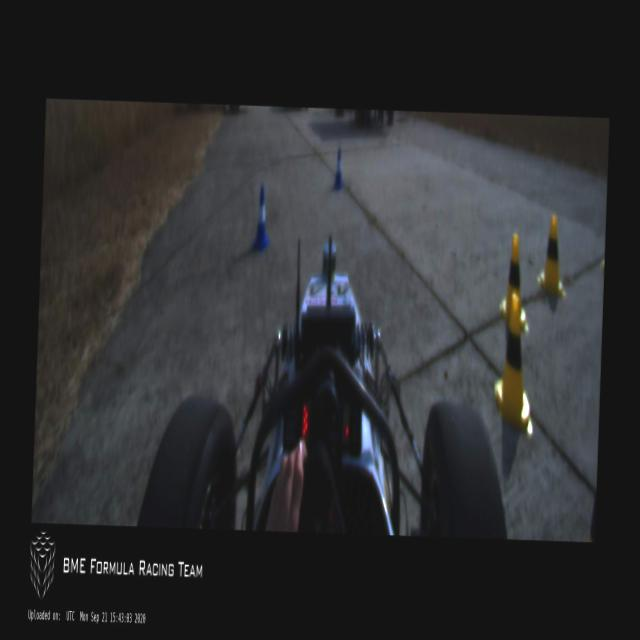blue_cone: (251, 187, 270, 252), (332, 146, 344, 190)
yellow_cone: (492, 294, 538, 437), (498, 234, 532, 334), (536, 216, 566, 297)
